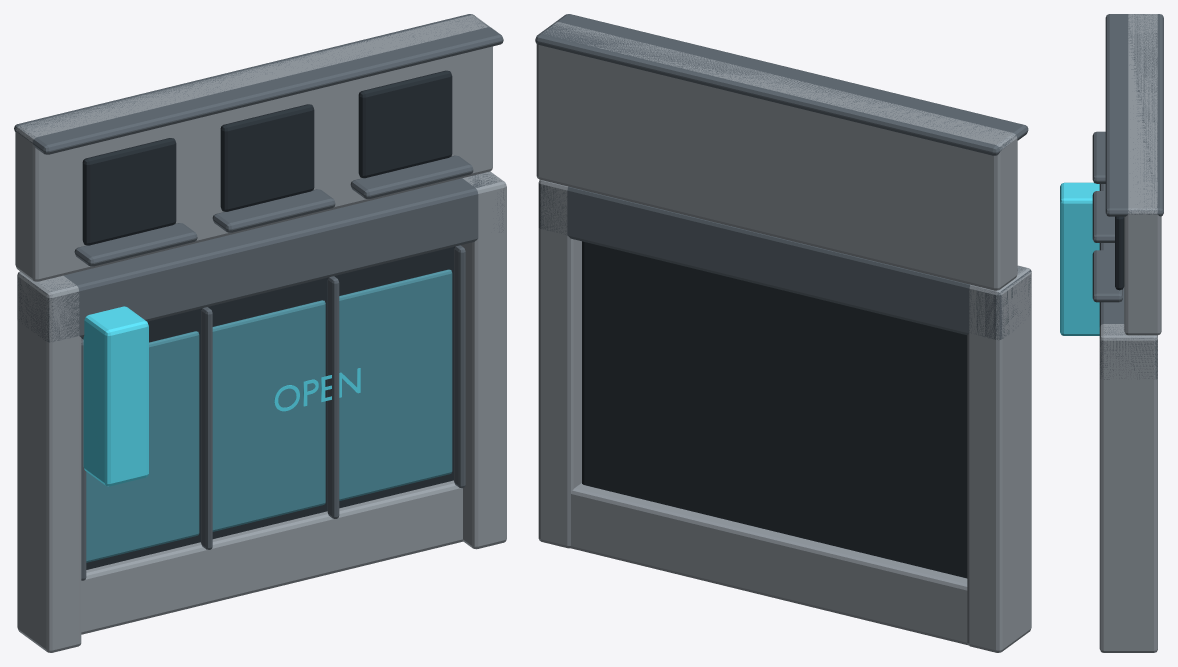
Rendered from 0_WallB.fbx.
3 renders of one model, left to right at view 1: azimuth 30°, elevation 25°; view 2: azimuth 150°, elevation 25°; view 3: azimuth 270°, elevation 25°, orthographic. The views are drawn at different scales.
Visible parts, largest first — view 1: Body; view 2: Body; view 3: Body.
Boxes of the visible parts, x1,y1,x2,y2 form: Body: (14,14,506,652); Body: (535,14,1031,652); Body: (1060,14,1163,652).
Size of the model in its own units: 4 by 4.2 by 0.89.
